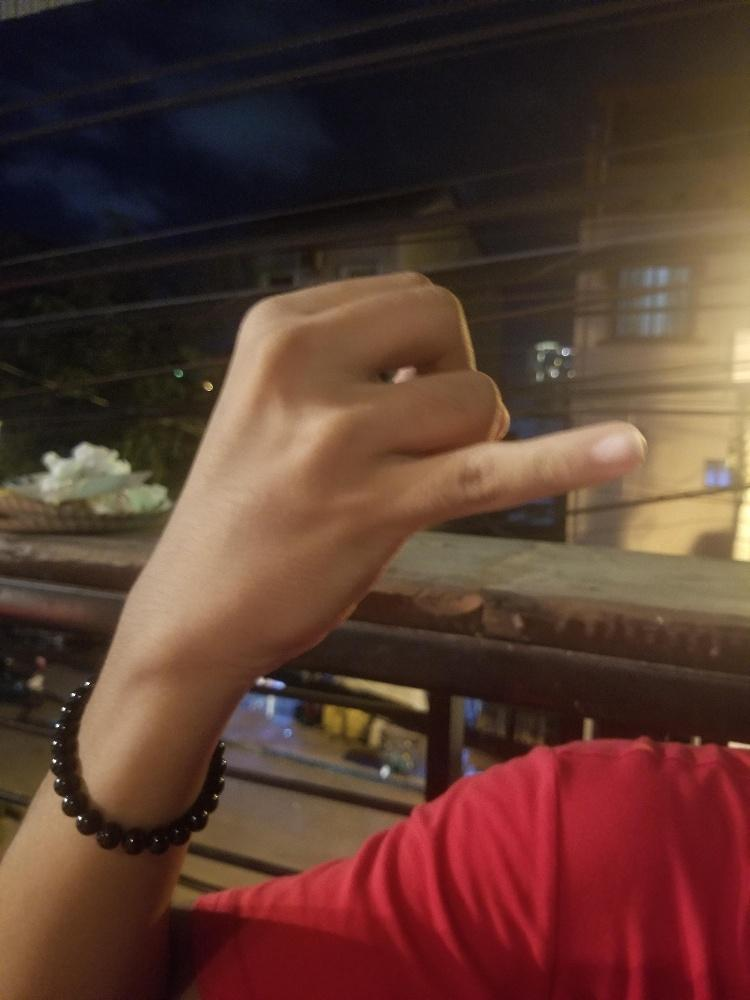j: (222, 269, 649, 673)
